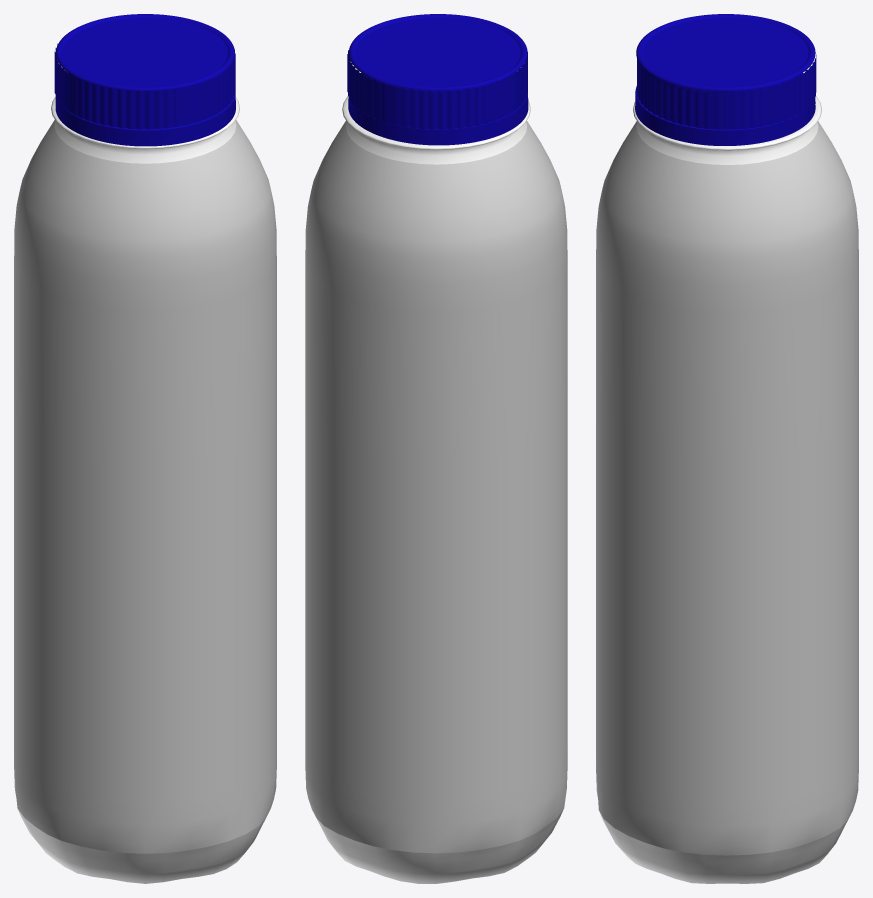
File: yogurtchalar yangi2.glb
3 renders of one model, left to right at view 1: azimuth 30°, elevation 25°; view 2: azimuth 150°, elevation 25°; view 3: azimuth 270°, elevation 25°, orthographic.
Parts seen in each view (by area): view 1: texture, Cylinder024, Object029, Object028; view 2: texture, Cylinder024, Object029, Object028; view 3: texture, Cylinder024, Object029, Object028.
Part boxes in pixels (x1,y1,x2,y2): texture: [14, 120, 276, 853]; Cylinder024: [54, 14, 235, 129]; Object029: [18, 97, 265, 883]; Object028: [55, 82, 235, 146]; texture: [305, 121, 567, 853]; Cylinder024: [347, 14, 527, 129]; Object029: [316, 96, 563, 883]; Object028: [348, 72, 528, 145]; texture: [596, 121, 858, 855]; Cylinder024: [636, 14, 816, 129]; Object029: [599, 96, 847, 883]; Object028: [635, 73, 815, 145].
Bounding box in the file's own units: 0.597 × 1.99 × 0.597.
